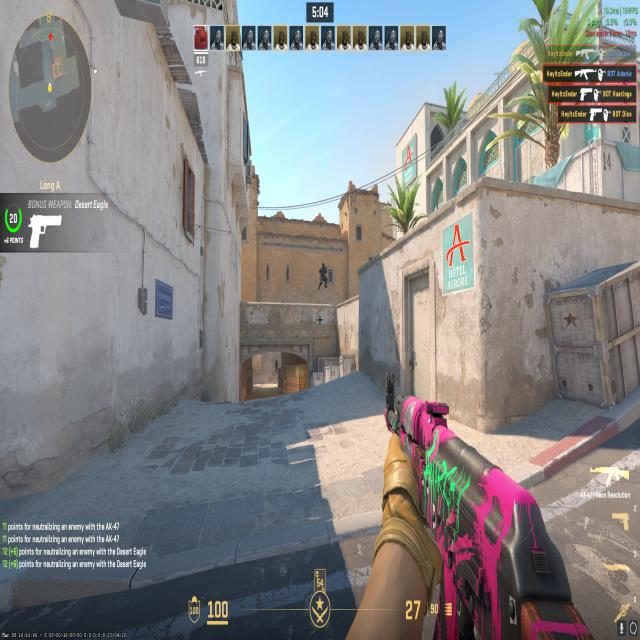ct: (317, 258, 328, 292), (272, 354, 279, 375)
